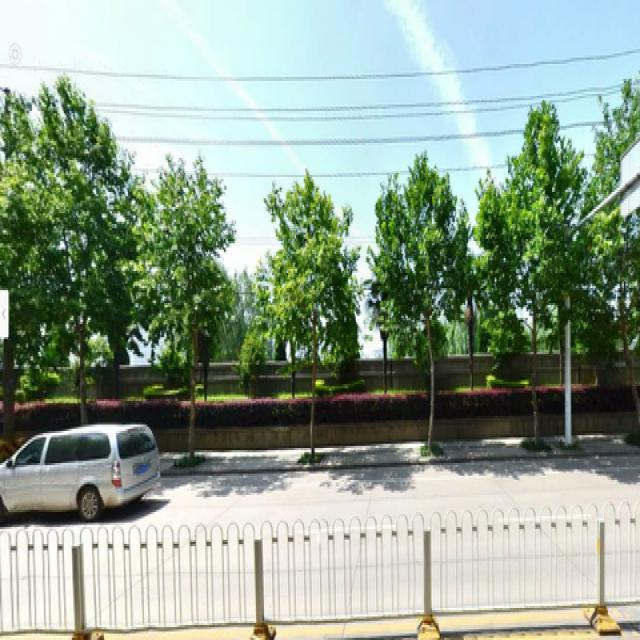meta: (31, 109, 116, 416), (494, 139, 570, 435), (378, 173, 462, 437), (276, 168, 343, 458), (145, 158, 212, 437)
